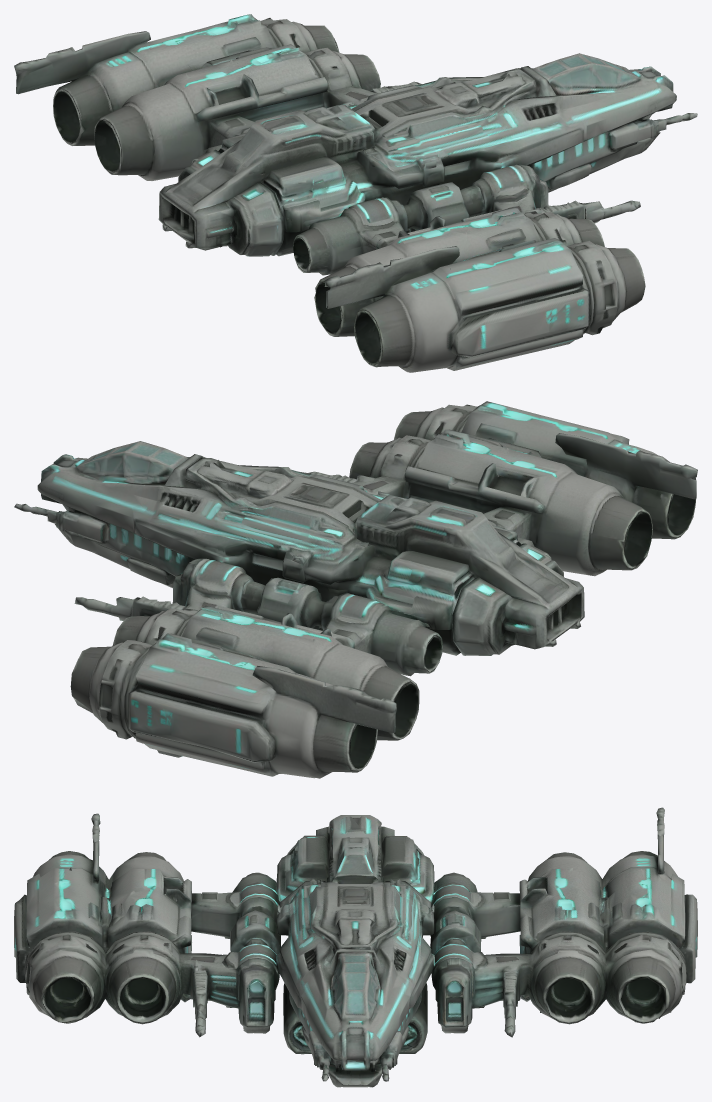
Rendered from Nave11.glb.
The picture shows the model from 3 angles, top to bottom: view 1: azimuth 30°, elevation 25°; view 2: azimuth 150°, elevation 25°; view 3: azimuth 270°, elevation 25°; orthographic projection. The views are drawn at different scales.
Parts seen in each view (by area): view 1: tripo_node_477821ab-63b2-4cd4-823e-2c6776712fcf; view 2: tripo_node_477821ab-63b2-4cd4-823e-2c6776712fcf; view 3: tripo_node_477821ab-63b2-4cd4-823e-2c6776712fcf.
Part boxes in pixels (x1,y1,x2,y2): tripo_node_477821ab-63b2-4cd4-823e-2c6776712fcf: [14, 14, 697, 372]; tripo_node_477821ab-63b2-4cd4-823e-2c6776712fcf: [14, 401, 697, 778]; tripo_node_477821ab-63b2-4cd4-823e-2c6776712fcf: [14, 807, 697, 1087].
Size of the model in its own units: 0.7948 by 0.2227 by 0.9805.
Materials: 1 (1 with a texture image).
